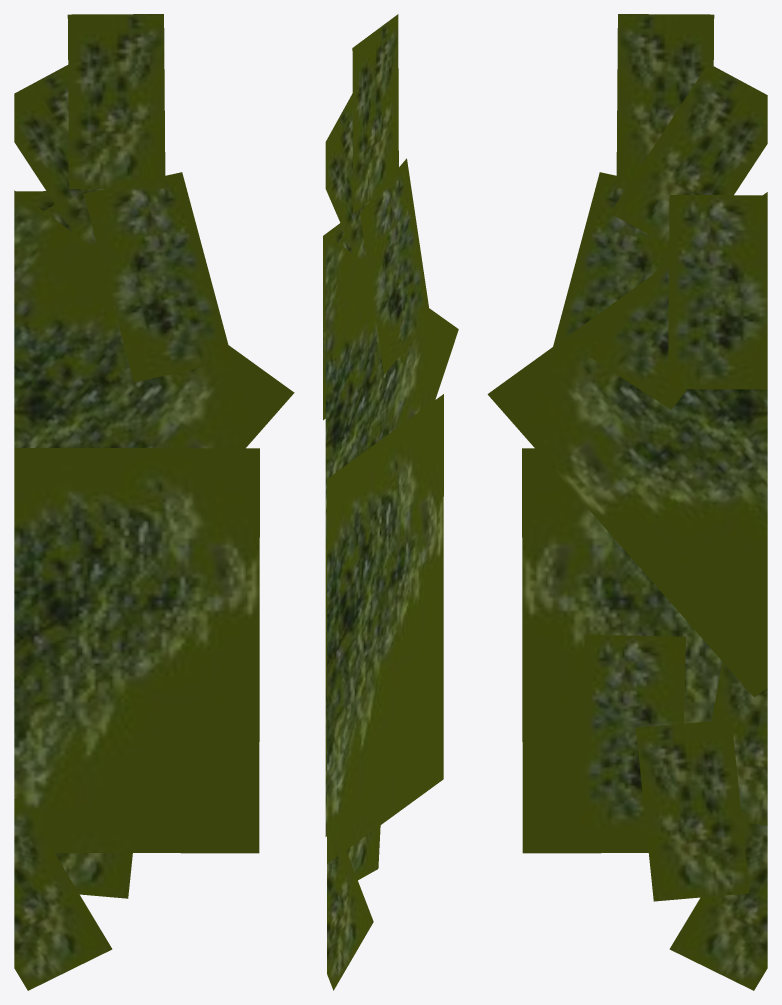
The model's file is prop_ivyedgebottom01.glb.
3 renders of one model, left to right at view 1: azimuth 90°, elevation 25°; view 2: azimuth 150°, elevation 25°; view 3: azimuth 270°, elevation 25°, orthographic. The views are drawn at different scales.
Size of the model in its own units: 1.19 by 266 by 69.22.
1 material, 1 textured.
